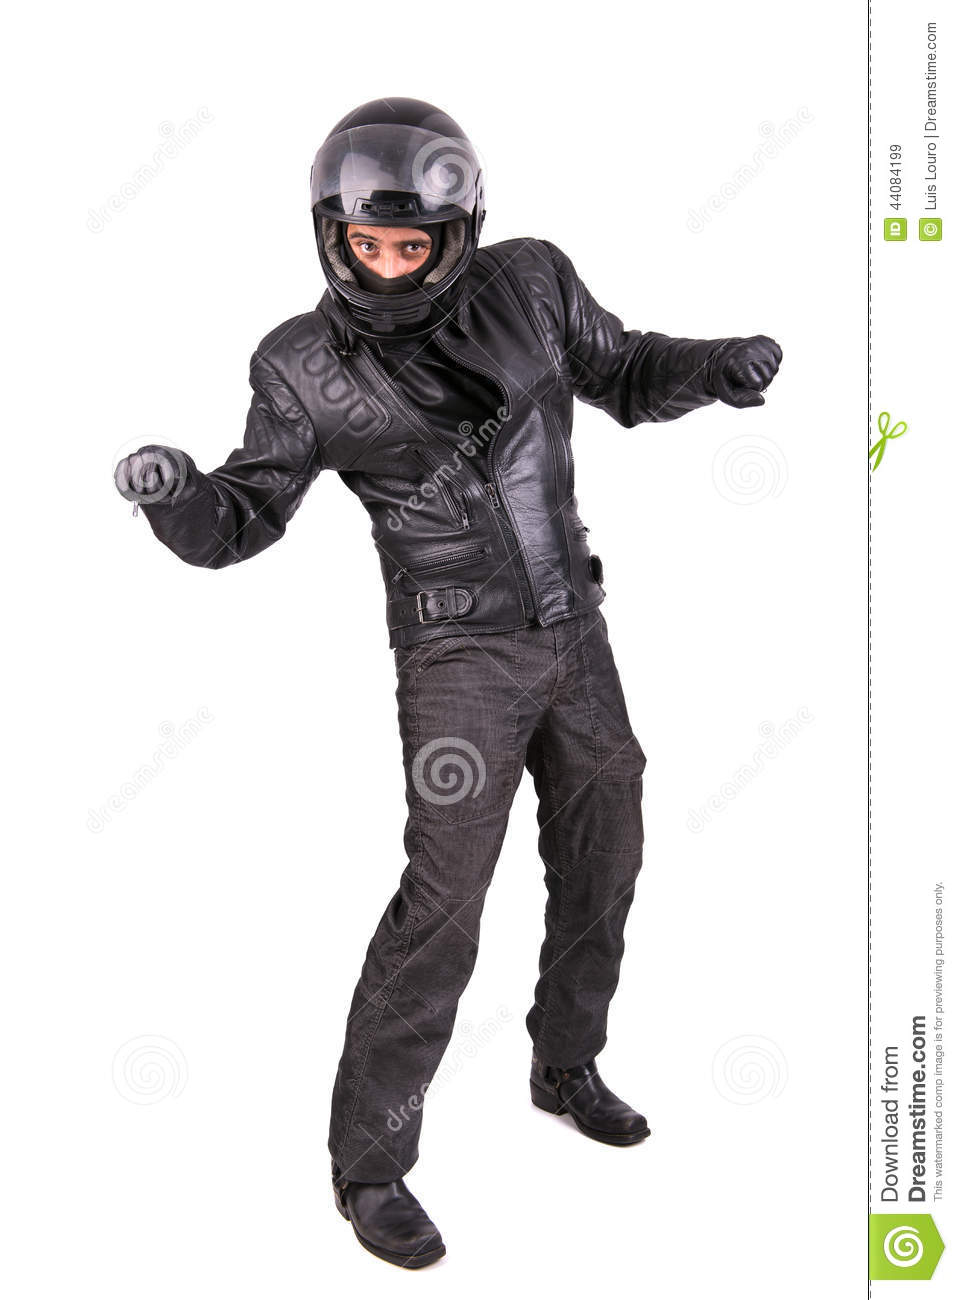helmet: (301, 103, 493, 329)
